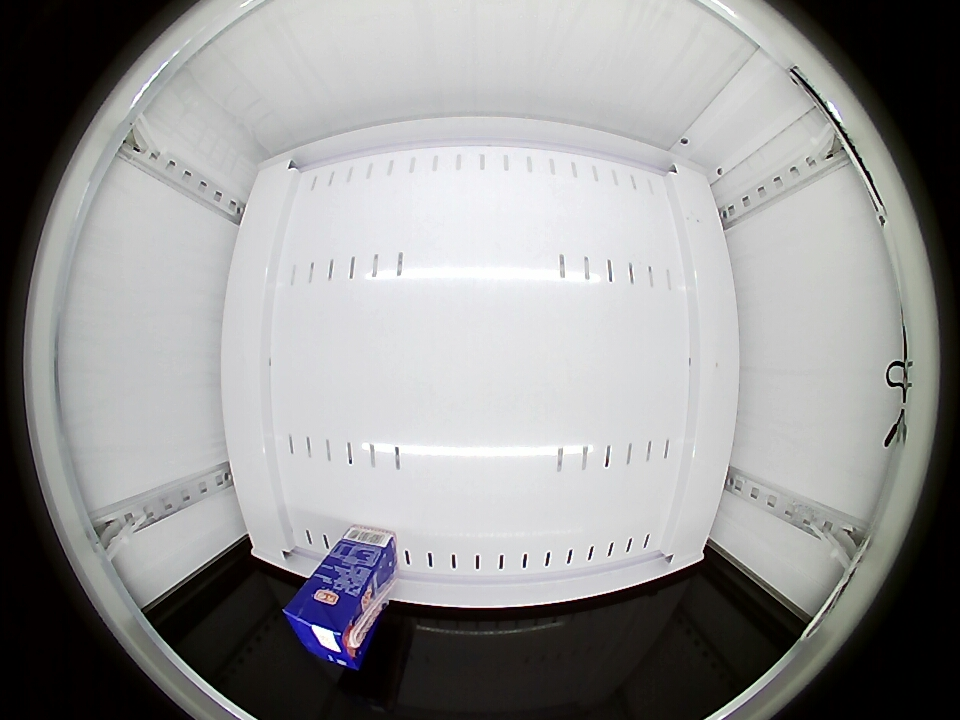bingqilinniunai: (284, 576, 372, 669)
